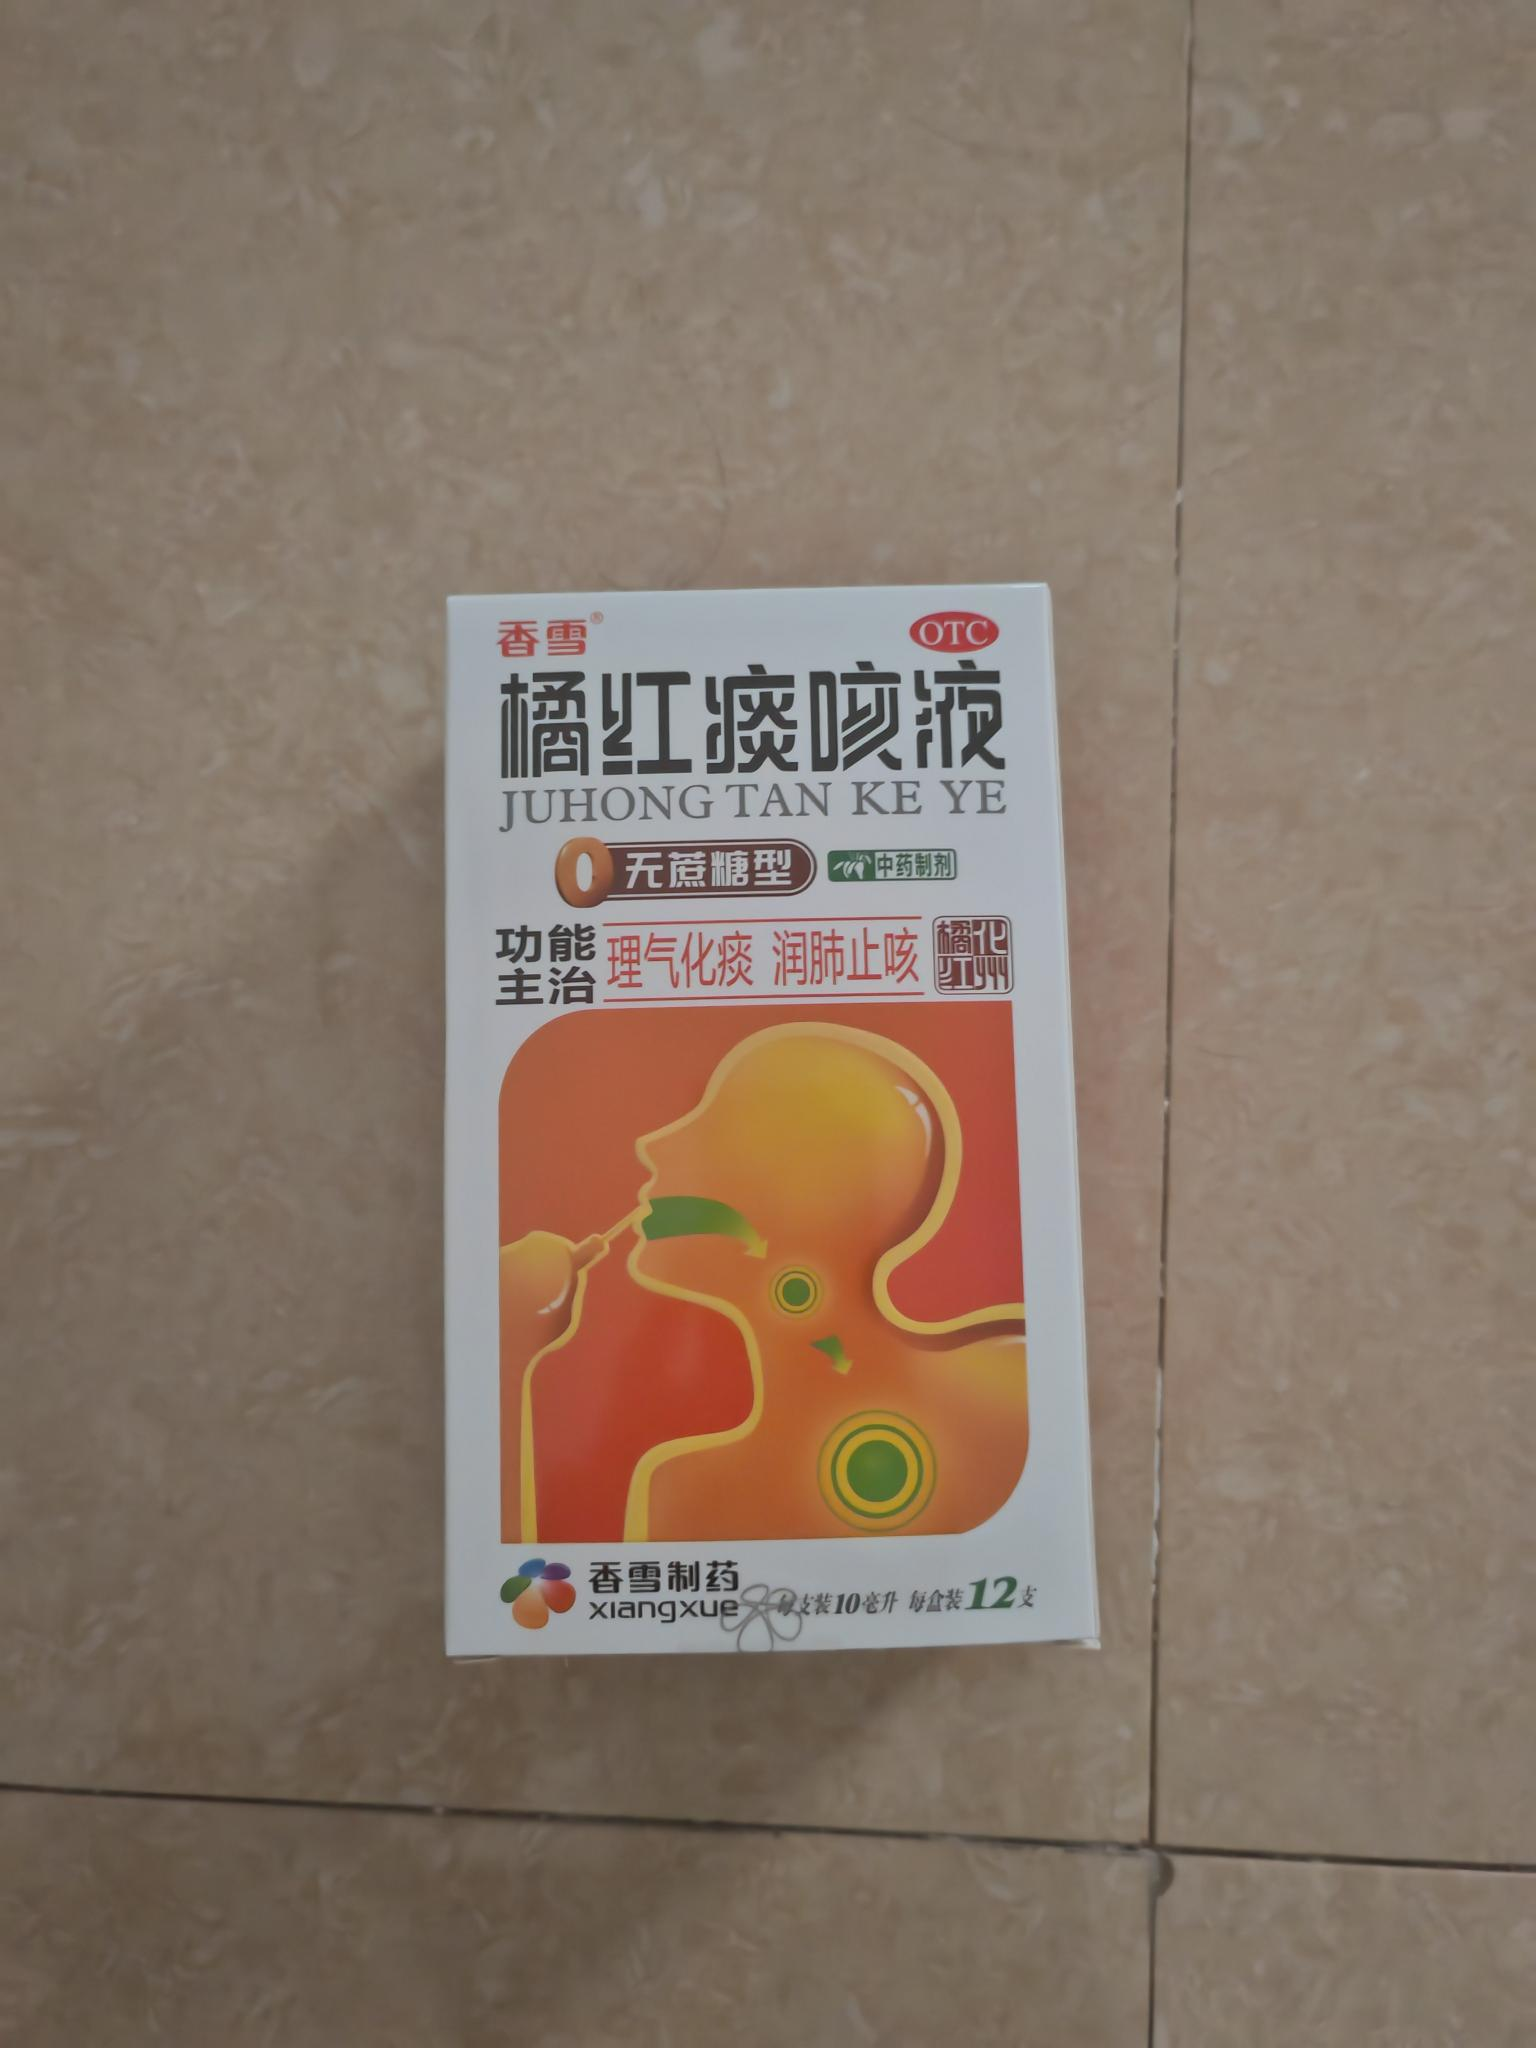Medicine1: (418, 563, 1129, 1687)
